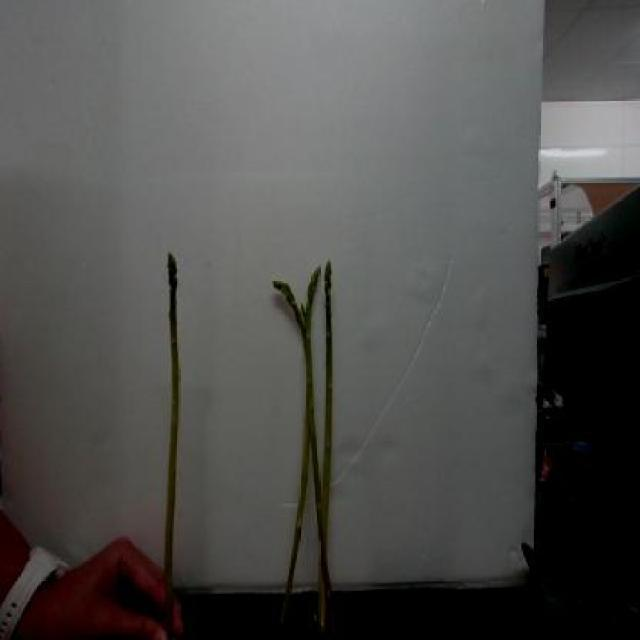aspargus: (161, 254, 181, 587)
